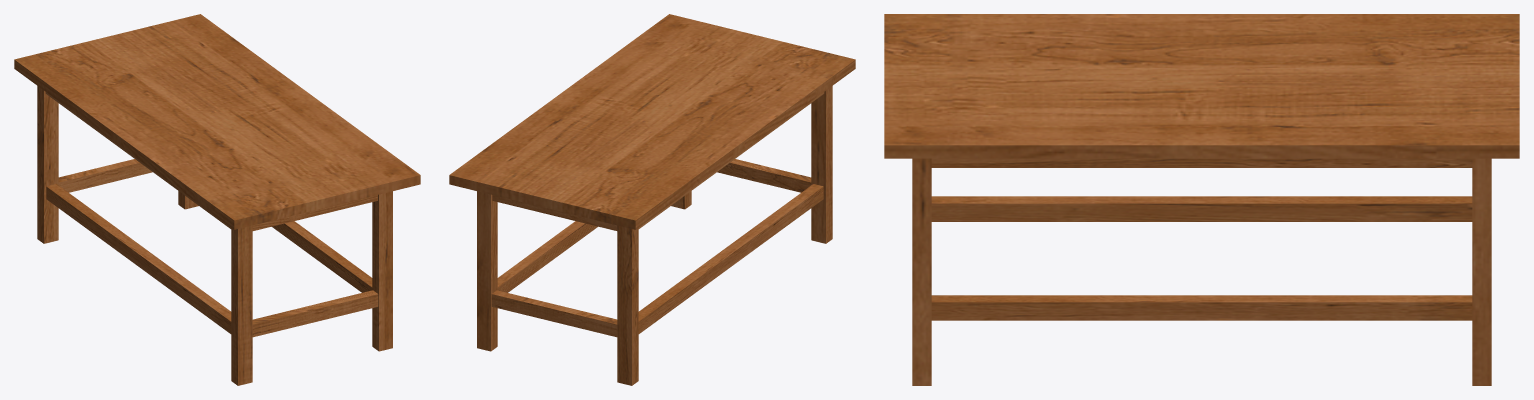
File: M_Home_Garden_WorkTable_01_1.fbx
3 views of the same model, side by side, from view 1: azimuth 30°, elevation 25°; view 2: azimuth 150°, elevation 25°; view 3: azimuth 270°, elevation 25° (orthographic). The views are drawn at different scales.
Visible parts, largest first — view 1: M_Home_Garden_WorkTable_01_1; view 2: M_Home_Garden_WorkTable_01_1; view 3: M_Home_Garden_WorkTable_01_1.
Part boxes in pixels (x1=…): M_Home_Garden_WorkTable_01_1: x1=14, y1=14, x2=420, y2=385; M_Home_Garden_WorkTable_01_1: x1=449, y1=14, x2=855, y2=385; M_Home_Garden_WorkTable_01_1: x1=884, y1=14, x2=1519, y2=385.
Bounding box in the file's own units: 122 × 110 × 249.
